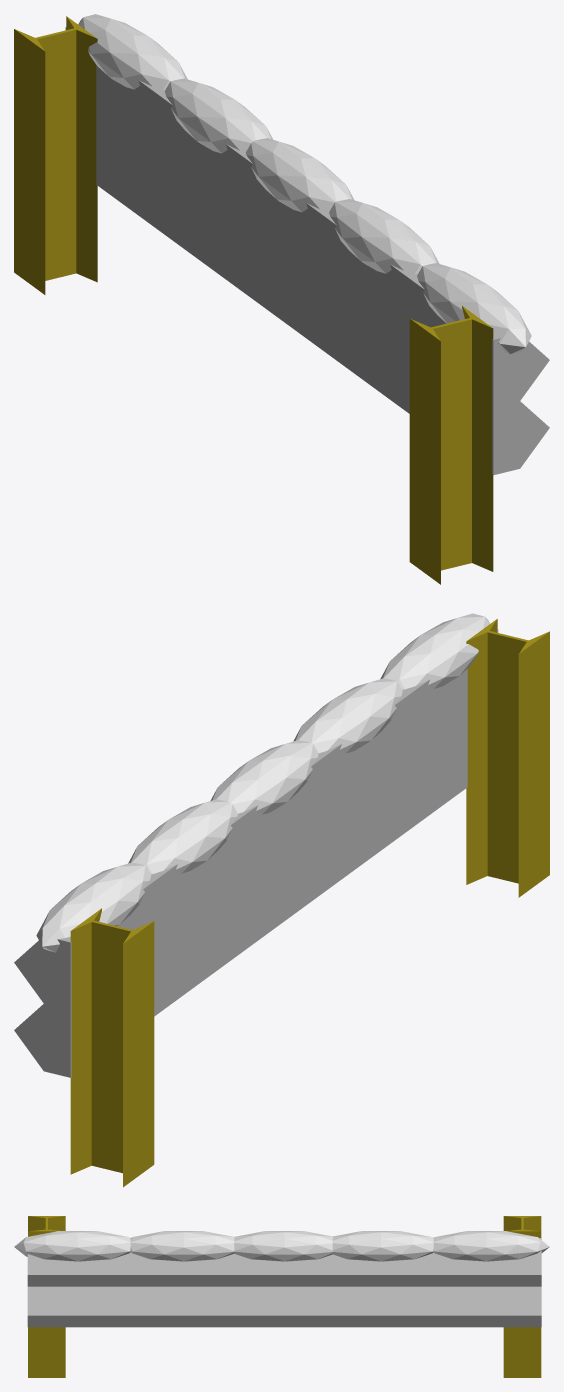
File: Barrier-Snow.glb
The picture shows the model from 3 angles, top to bottom: view 1: azimuth 30°, elevation 25°; view 2: azimuth 150°, elevation 25°; view 3: azimuth 270°, elevation 25°; orthographic projection. The views are drawn at different scales.
Visible parts, largest first — view 1: Rails, Posts, Icosphere.002, Icosphere.003, Icosphere, Icosphere.001, Icosphere.004; view 2: Rails, Posts, Icosphere.001, Icosphere.004, Icosphere.002, Icosphere, Icosphere.003; view 3: Rails, Posts, Icosphere.003, Icosphere.004, Icosphere.002, Icosphere.001, Icosphere.
Boxes of the visible parts, left/top/right/bottom form: Rails: left=65, top=23, right=549, bottom=475; Posts: left=14, top=16, right=493, bottom=584; Icosphere.002: left=329, top=199, right=439, bottom=274; Icosphere.003: left=417, top=263, right=531, bottom=353; Icosphere: left=245, top=138, right=354, bottom=212; Icosphere.001: left=164, top=78, right=272, bottom=153; Icosphere.004: left=78, top=14, right=187, bottom=90; Rails: left=14, top=629, right=498, bottom=1077; Posts: left=70, top=619, right=549, bottom=1187; Icosphere.001: left=128, top=799, right=237, bottom=874; Icosphere.004: left=36, top=862, right=151, bottom=952; Icosphere.002: left=293, top=678, right=402, bottom=753; Icosphere: left=210, top=740, right=318, bottom=814; Icosphere.003: left=380, top=613, right=489, bottom=689; Rails: left=27, top=1238, right=541, bottom=1327; Posts: left=28, top=1216, right=541, bottom=1377; Icosphere.003: left=14, top=1231, right=130, bottom=1261; Icosphere.004: left=433, top=1231, right=549, bottom=1261; Icosphere.002: left=130, top=1231, right=234, bottom=1261; Icosphere.001: left=332, top=1231, right=433, bottom=1261; Icosphere: left=234, top=1231, right=332, bottom=1261.
Size of the model in its own units: 1.68 by 3.73 by 11.94.
